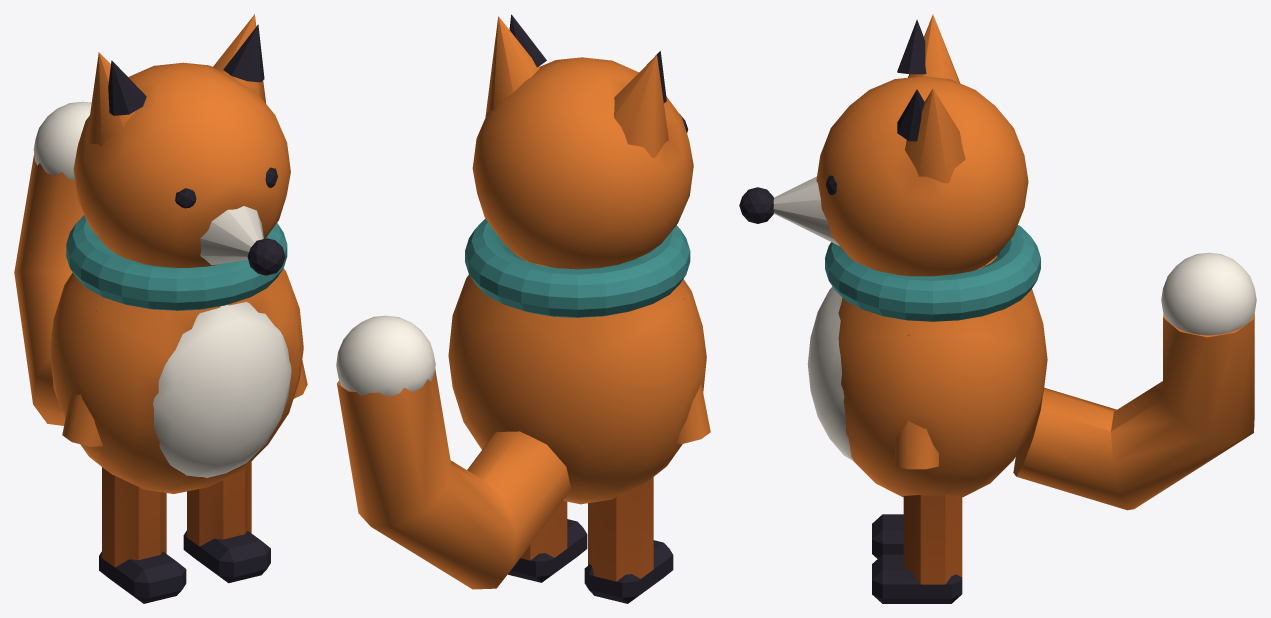
Rendered from fox.glb.
The picture shows the model from 3 angles, left to right: view 1: azimuth 30°, elevation 25°; view 2: azimuth 150°, elevation 25°; view 3: azimuth 270°, elevation 25°; orthographic projection. The views are drawn at different scales.
Parts seen in each view (by area): view 1: fox; view 2: fox; view 3: fox.
Part boxes in pixels (x1,y1,x2,y2): fox: (14, 14, 307, 603); fox: (336, 14, 710, 603); fox: (739, 14, 1256, 603).
Size of the model in its own units: 0.5013 by 1.09 by 0.975.
